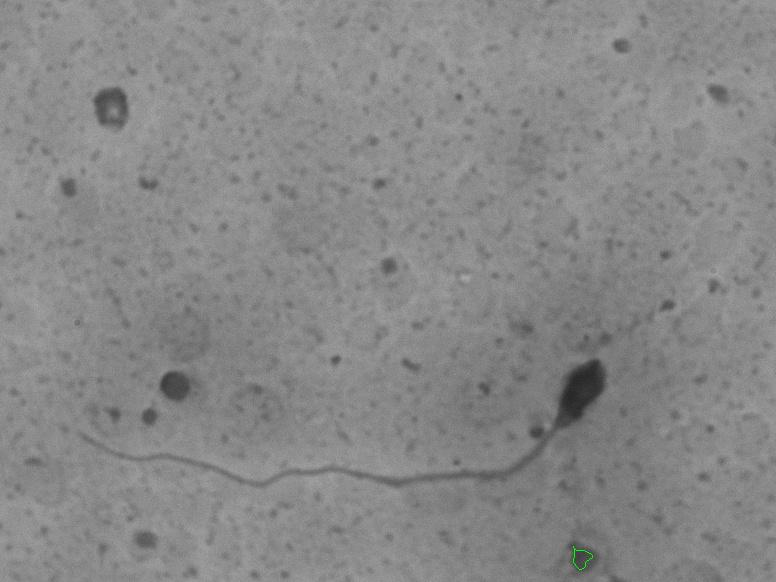Abnormal: (35, 324, 632, 521)
